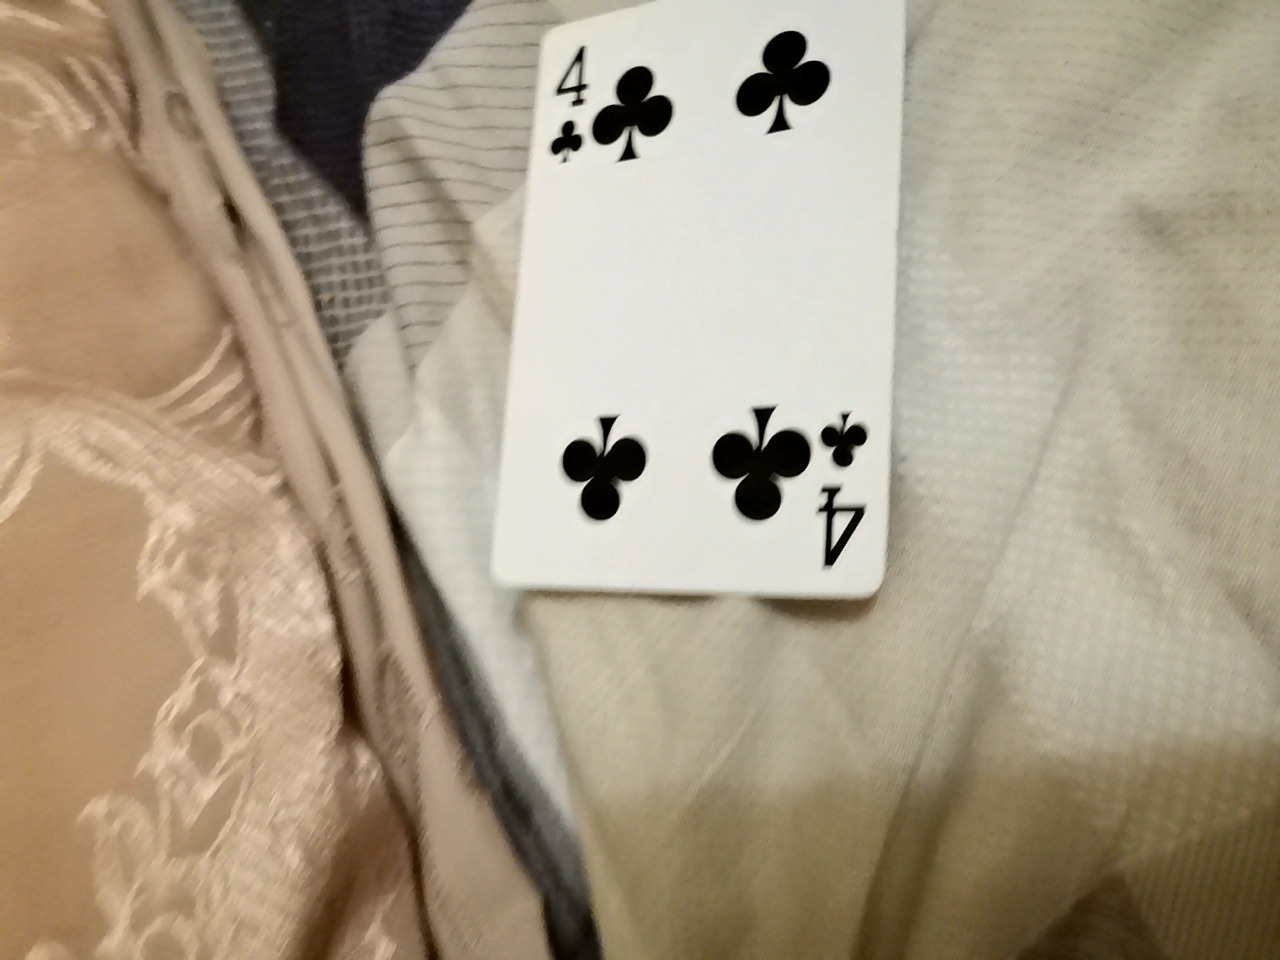mh 4: (481, 0, 922, 625)
